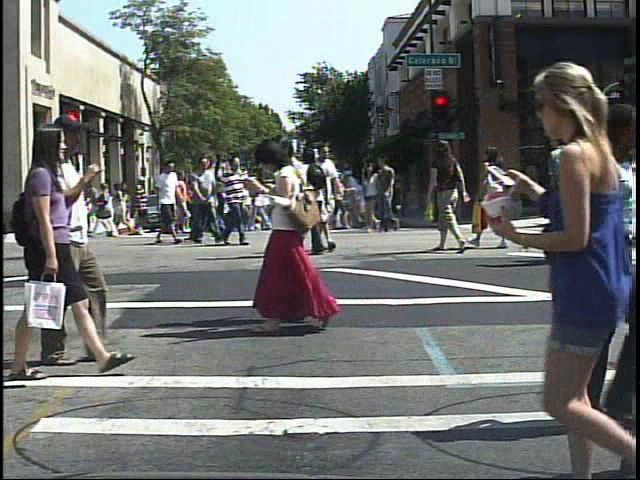person: (490, 53, 635, 480), (4, 113, 104, 383), (56, 108, 123, 370), (247, 135, 333, 335), (279, 130, 347, 330), (576, 132, 621, 281), (545, 119, 586, 269), (422, 134, 471, 254), (257, 135, 302, 263), (472, 142, 517, 256), (301, 150, 346, 261), (304, 141, 346, 251), (215, 151, 253, 246), (188, 154, 224, 249), (578, 147, 610, 244), (151, 157, 184, 245), (132, 172, 152, 240), (72, 182, 92, 232)
